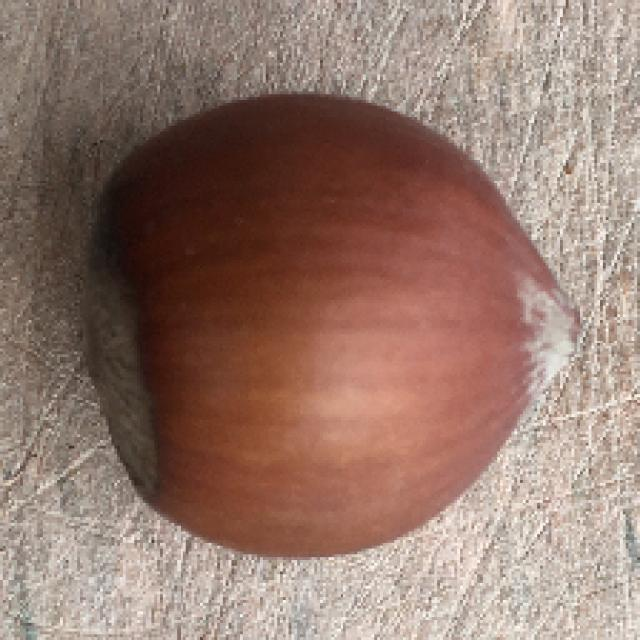qualityHazelnut: (84, 83, 592, 563)
